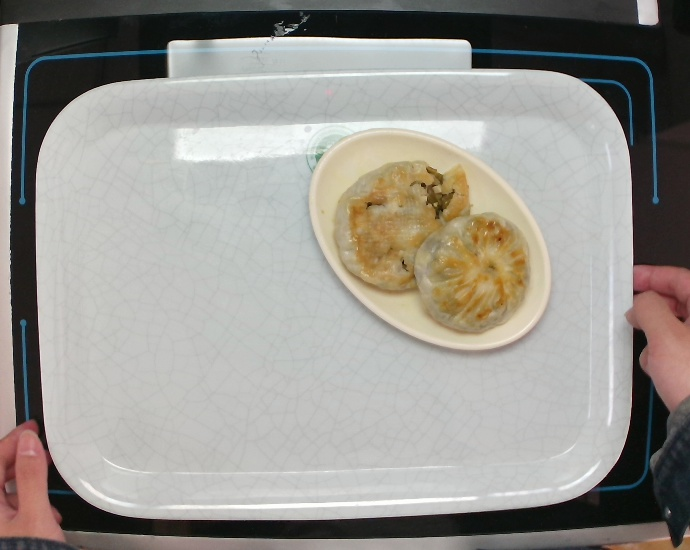JYsf-Tuo_Yuan_Wan: (305, 122, 557, 357)
